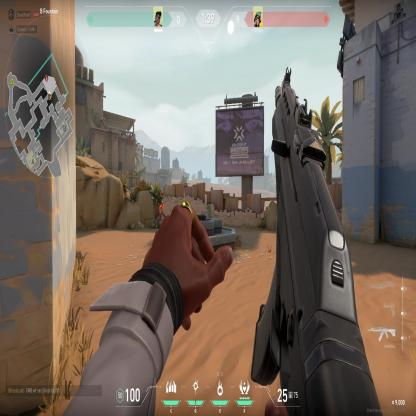enemy: (157, 200, 166, 220)
